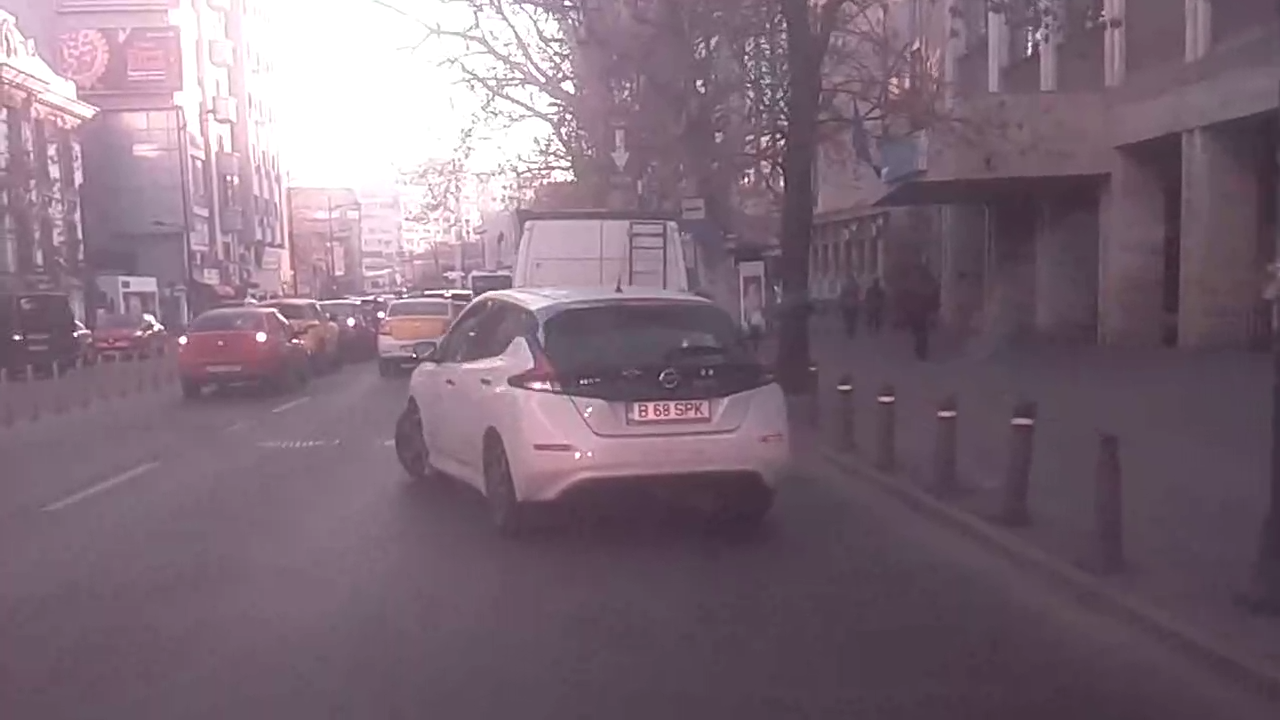license-plate: (622, 394, 716, 426)
